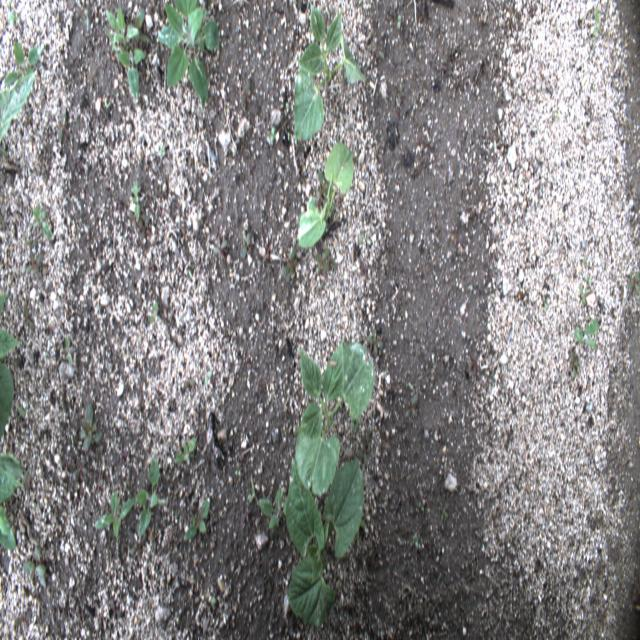crop: (292, 338, 375, 496), (286, 458, 364, 626), (294, 1, 368, 141), (296, 142, 353, 248), (0, 292, 22, 440), (0, 70, 36, 144), (0, 453, 25, 551)
weed: (157, 0, 220, 109), (134, 452, 169, 536), (93, 489, 137, 538), (3, 38, 44, 86), (257, 486, 295, 530), (117, 48, 146, 100), (104, 5, 133, 54), (184, 495, 212, 541), (78, 402, 103, 453), (23, 541, 47, 586), (126, 6, 153, 44), (32, 201, 53, 243), (574, 318, 598, 350), (173, 436, 197, 467), (279, 245, 298, 283), (365, 325, 384, 358), (316, 169, 333, 205), (247, 472, 259, 520), (271, 243, 292, 270), (83, 8, 97, 48), (356, 434, 372, 467), (402, 392, 420, 420), (24, 250, 44, 274), (298, 197, 316, 223), (130, 180, 141, 222), (212, 235, 229, 262), (14, 608, 33, 631), (22, 302, 36, 332), (72, 456, 88, 482), (55, 110, 68, 142), (239, 228, 252, 260), (357, 228, 373, 253), (145, 300, 162, 323), (315, 248, 330, 274), (62, 335, 74, 367), (352, 516, 366, 542), (108, 596, 121, 622), (626, 270, 640, 294), (239, 78, 251, 105), (568, 350, 579, 379), (80, 442, 95, 462), (203, 359, 213, 388), (371, 39, 385, 59), (242, 500, 253, 524), (6, 9, 19, 28), (262, 240, 273, 262), (579, 286, 591, 306), (182, 375, 196, 392), (439, 501, 449, 523), (367, 426, 374, 455), (26, 233, 38, 249), (350, 412, 360, 431), (593, 8, 599, 38), (16, 403, 27, 419), (269, 125, 277, 142), (158, 143, 166, 158), (328, 255, 336, 269), (412, 532, 419, 548), (541, 294, 548, 310), (210, 594, 216, 612), (396, 14, 402, 30), (435, 572, 442, 584), (418, 500, 424, 513), (584, 276, 592, 285), (407, 381, 414, 391), (431, 357, 436, 371), (292, 134, 298, 145), (405, 472, 412, 481), (234, 468, 240, 478), (467, 282, 473, 292), (105, 102, 112, 109), (287, 131, 290, 143)
